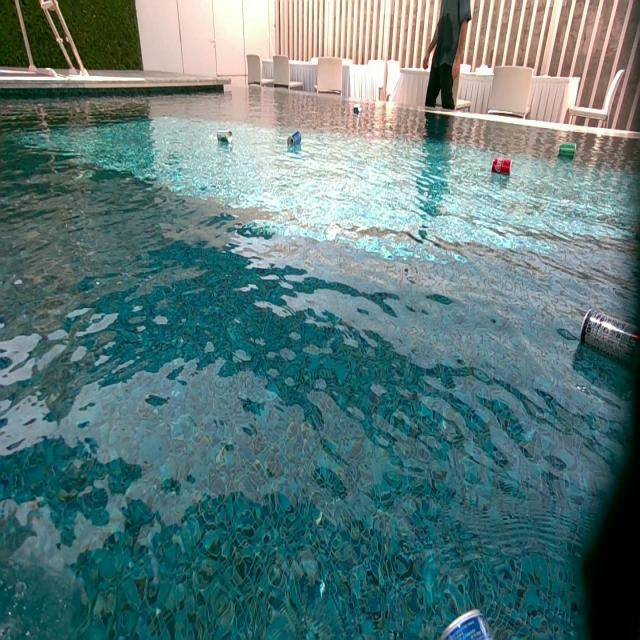Cans: (579, 306, 640, 370), (425, 609, 496, 640), (492, 160, 511, 177), (558, 142, 578, 158), (215, 130, 232, 146), (286, 132, 302, 149), (352, 106, 360, 114)
